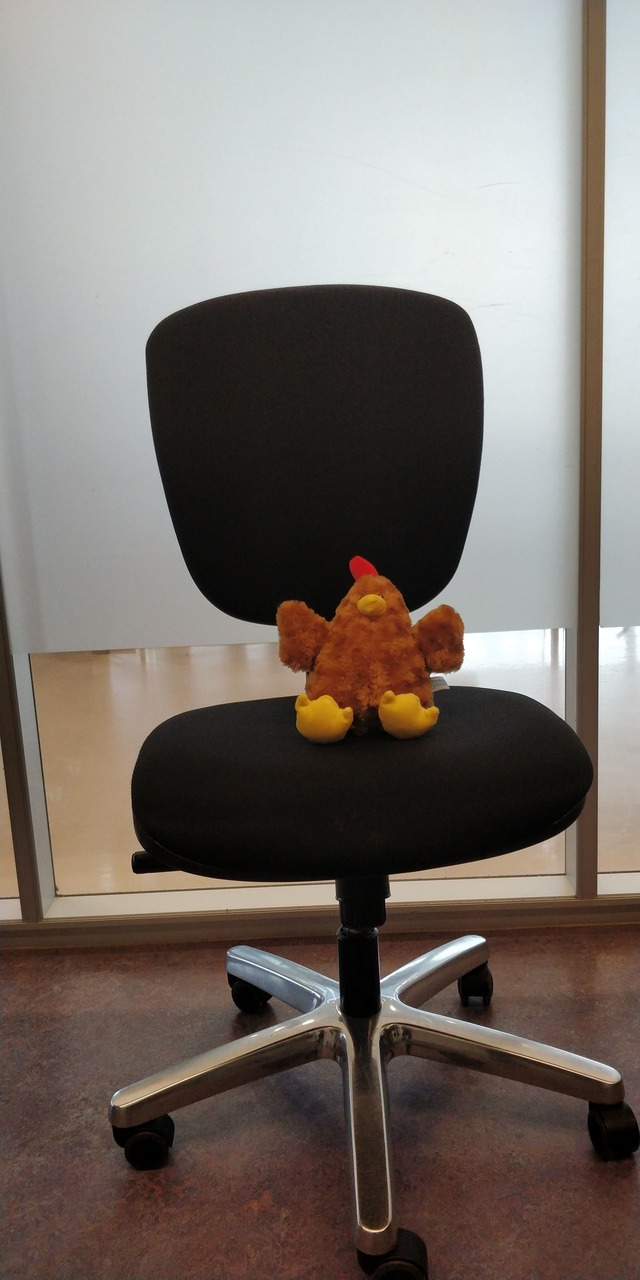fakeChicken: (274, 556, 467, 745)
